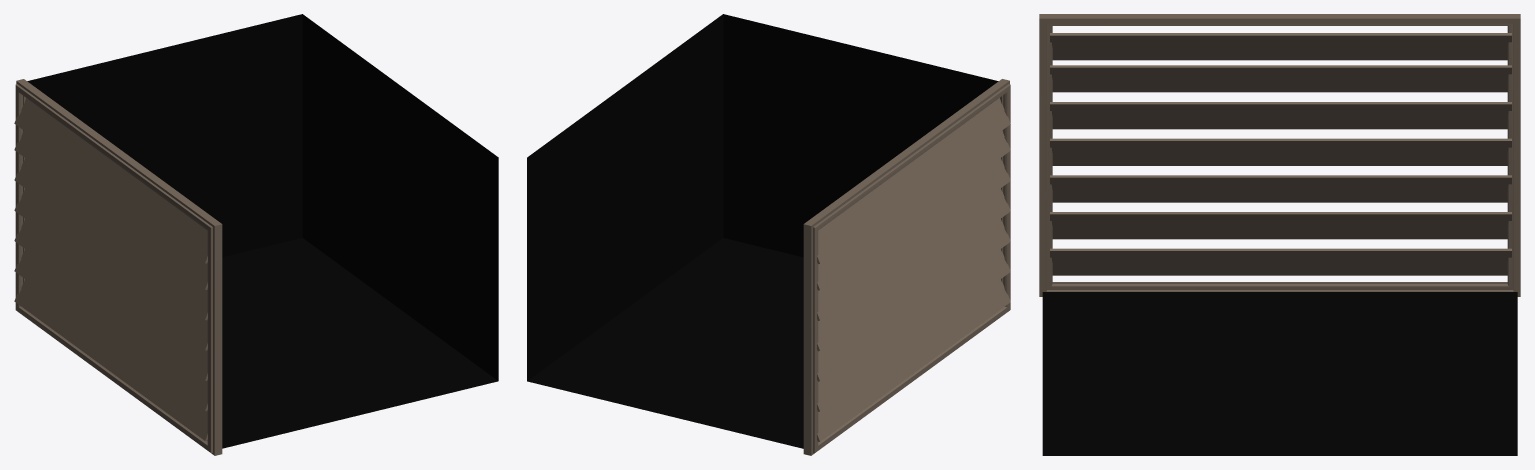
The model's file is Vent_11.7.fbx.
The picture shows the model from 3 angles, left to right: view 1: azimuth 30°, elevation 25°; view 2: azimuth 150°, elevation 25°; view 3: azimuth 270°, elevation 25°; orthographic projection. The views are drawn at different scales.
Parts seen in each view (by area): view 1: Vent, VentFrame1; view 2: Vent, VentFrame1; view 3: VentFrame1, Vent.
Part boxes in pixels (x1,y1,x2,y2): Vent: (27,14,498,448); VentFrame1: (14,79,222,455); Vent: (527,14,998,448); VentFrame1: (803,79,1010,455); VentFrame1: (1039,14,1520,296); Vent: (1042,292,1517,455).
Size of the model in its own units: 103 by 77.66 by 122.
